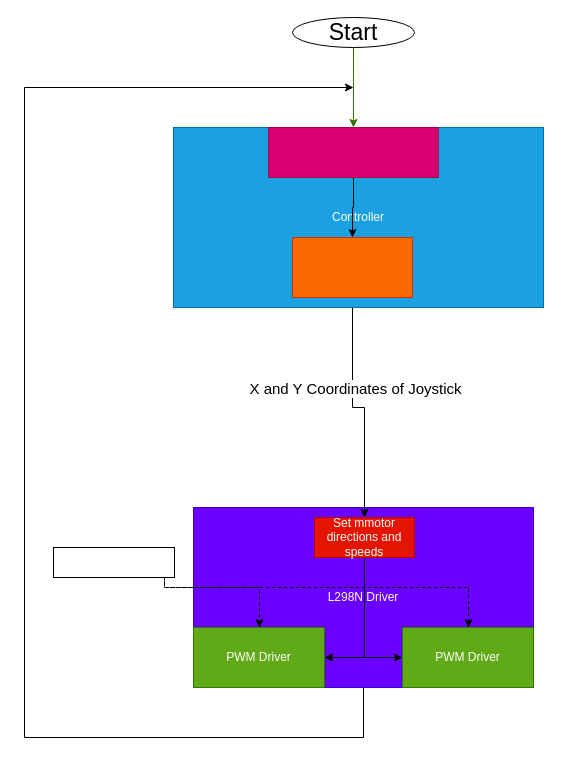
Image size: 561x763. Some labels were removed from this diagram. The shapes that lost their labels are listed below. From the top down, each one's centre as x and y in pixels, then its label:
At point 353,152: "Bluetooth".
At point 352,267: "Update button/joystick/trigger status".
At point 113,562: "PiGPIO Dameon".
